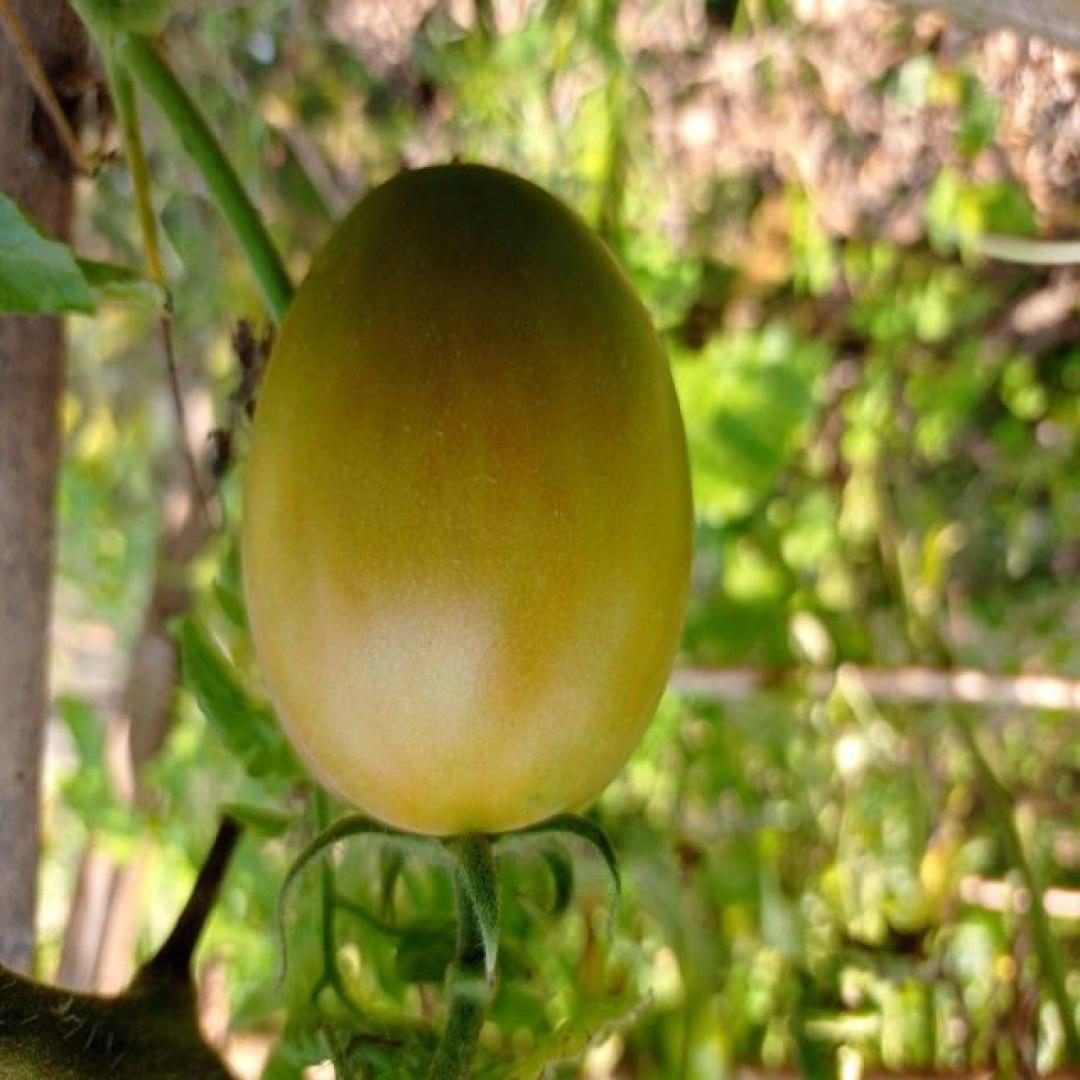setengah_matang: (241, 167, 697, 852)
